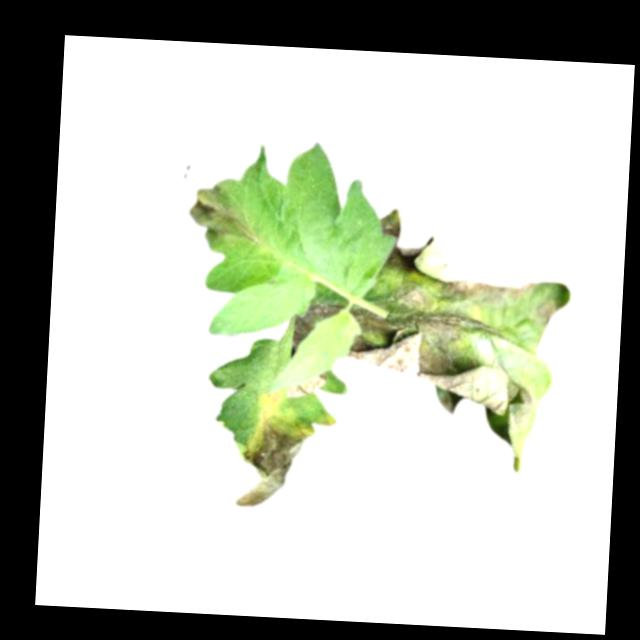Late_blight: (341, 207, 568, 429), (232, 412, 309, 511), (186, 178, 263, 245), (289, 298, 343, 361), (287, 370, 327, 400)
